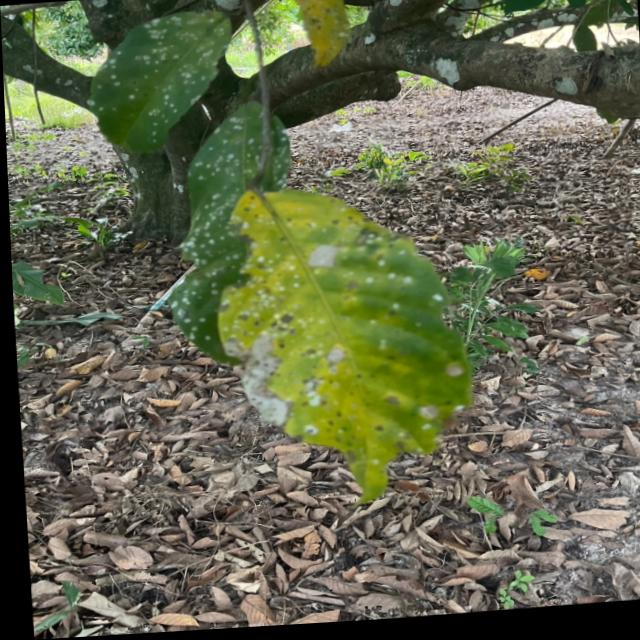Algal Leaf Spot: (195, 130, 443, 489), (130, 22, 218, 139)
